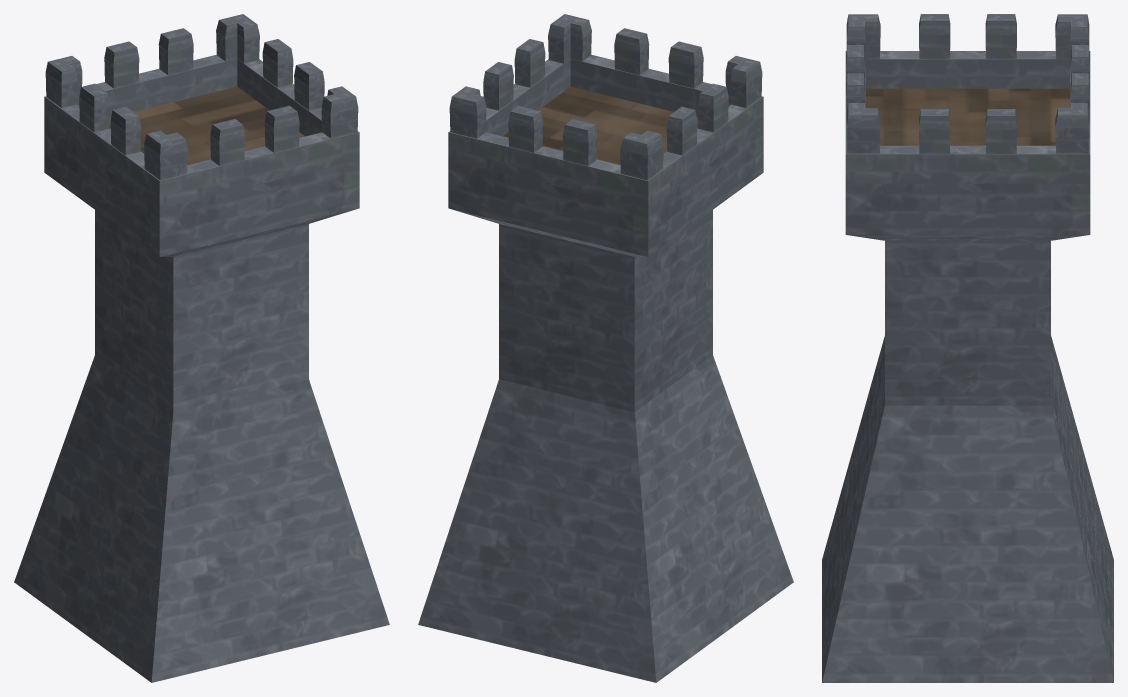
The model's file is SM_Fortress_TowerSquare.fbx.
3 renders of one model, left to right at view 1: azimuth 30°, elevation 25°; view 2: azimuth 150°, elevation 25°; view 3: azimuth 270°, elevation 25°, orthographic. The views are drawn at different scales.
Visible parts, largest first — view 1: polySurface653; view 2: polySurface653; view 3: polySurface653.
Part boxes in pixels (box(x1,y1,x2,y2)): polySurface653: box(14, 14, 389, 682); polySurface653: box(418, 14, 793, 682); polySurface653: box(822, 14, 1113, 682).
Size of the model in its own units: 580 by 1219 by 580.
